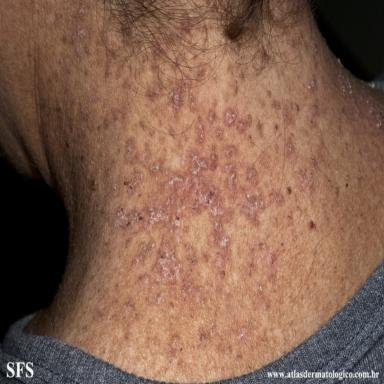Darier_s-Disease: (77, 0, 384, 366)
